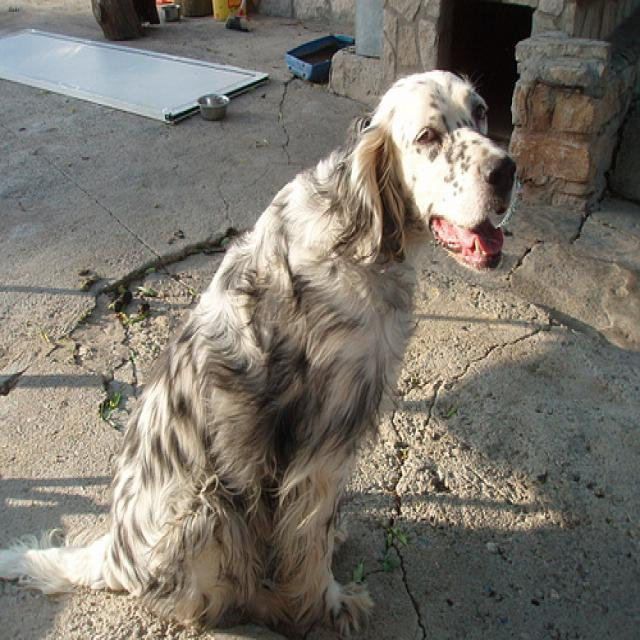dog-english_setter: (1, 56, 529, 637)
